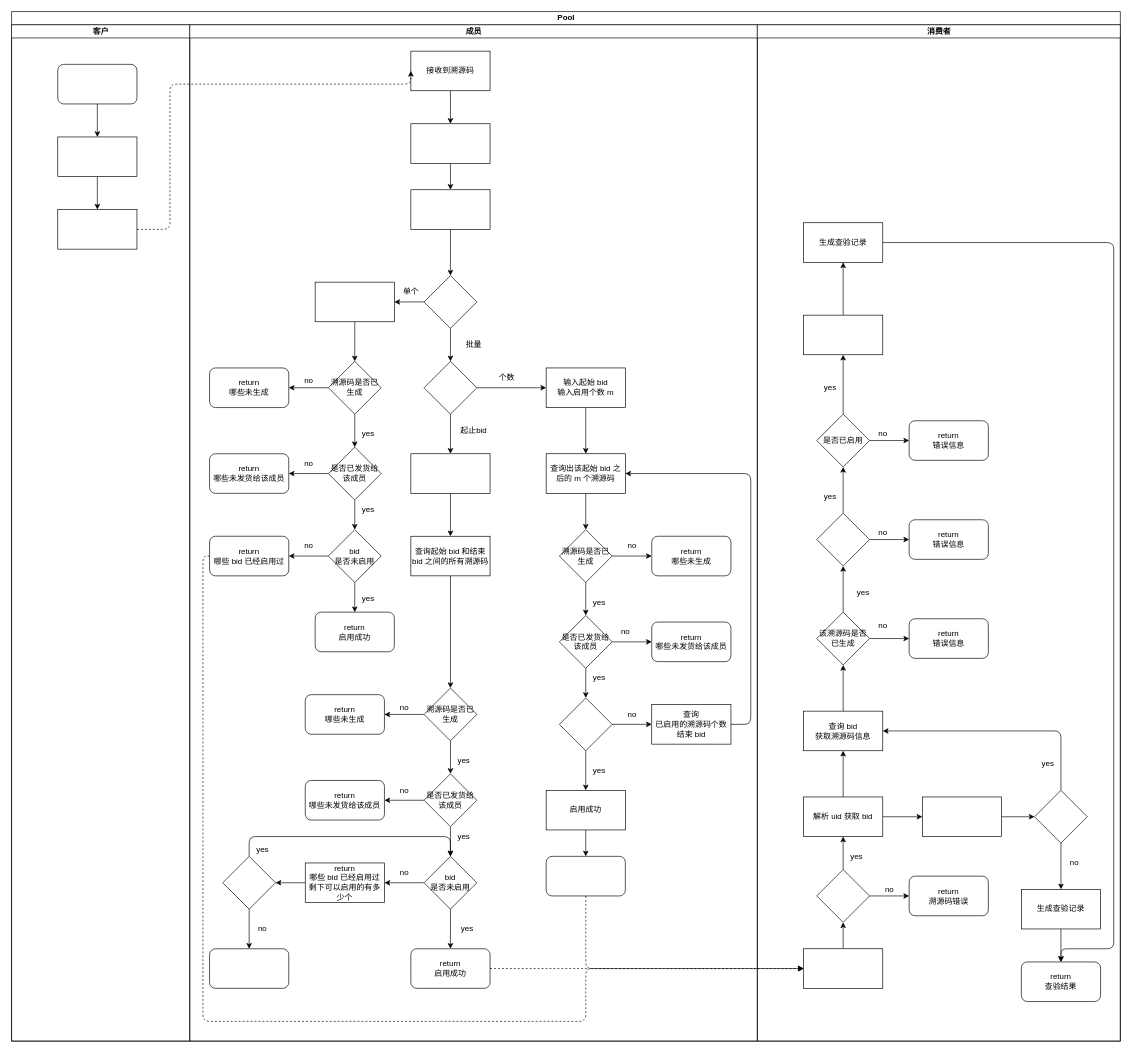
This 1132x1053 diagram has some shape labels left out. Here are the shapes that lost their labels. From the top down, the centre of each, then its label:
[97,84]: 生成溯源码
[97,156]: 选择生成个数 生成溯源码
[450,143]: 溯源码启用
[97,229]: 选择成员 选择溯源码 将溯源码发货给成员
[450,209]: 选择模板
[354,301]: 输入需要启用的 溯源码的bid
[450,301]: 启用方案
[843,334]: 获取所有信息
[450,387]: 批量 启用方案
[450,473]: 输入起始bid 输入结束bid
[843,539]: vCode 是否正确
[585,724]: m个bid 是否未启用
[962,816]: 通过 bid 查询查验记录
[1060,816]: 是否第一次正确查验
[249,882]: 是否启用可以启用的溯源码
[585,876]: return 启用的溯源码 和替换的溯源码
[843,895]: uid是否符合规则
[249,968]: 结束
[843,968]: 消费者扫描二维码 获取并传参 uid 输入验证码 vCode
